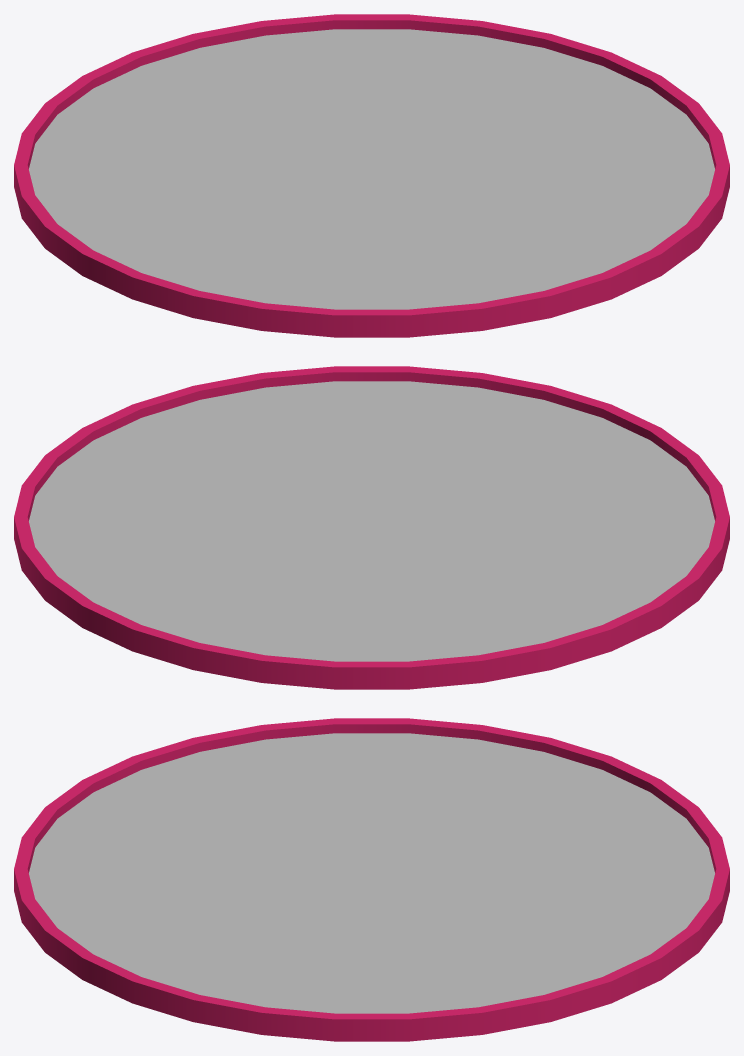
Rendered from SFI0510020.fbx.
The picture shows the model from 3 angles, top to bottom: view 1: azimuth 30°, elevation 25°; view 2: azimuth 150°, elevation 25°; view 3: azimuth 270°, elevation 25°; orthographic projection.
Visible parts, largest first — view 1: smSFI0510020; view 2: smSFI0510020; view 3: smSFI0510020.
Boxes of the visible parts, x1,y1,x2,y2 form: smSFI0510020: [14, 14, 729, 337]; smSFI0510020: [14, 366, 729, 689]; smSFI0510020: [14, 718, 729, 1041].
Bounding box in the file's own units: 199 × 6.83 × 200.
